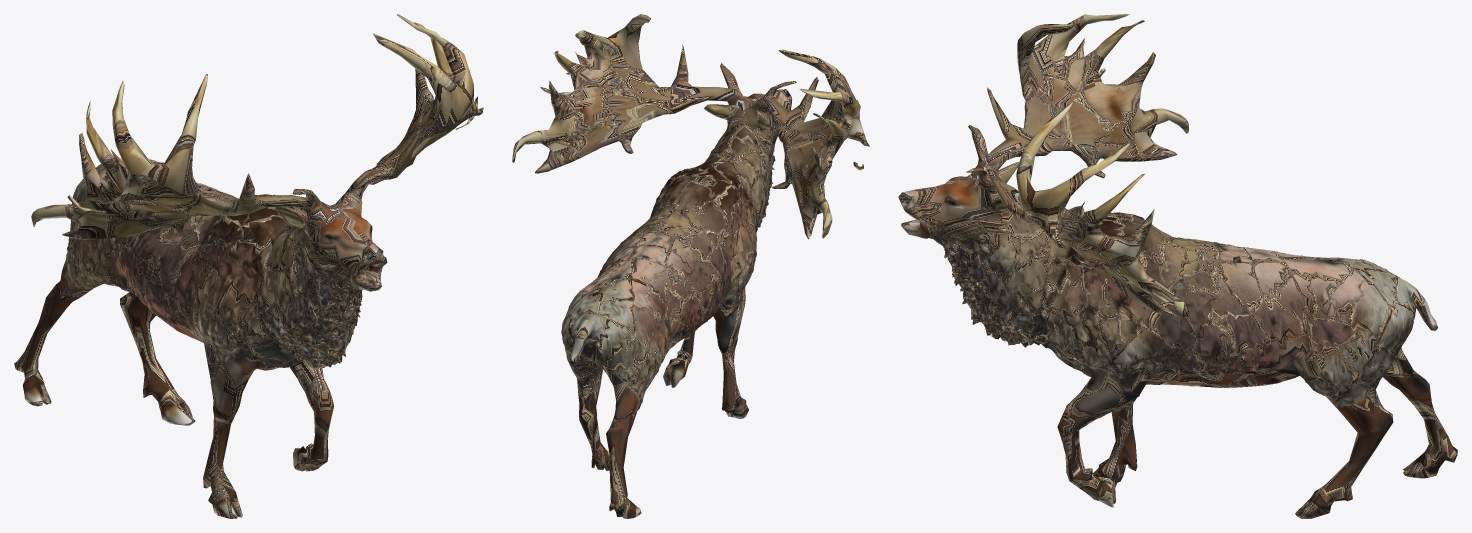
File: giant-elk.glb
3 renders of one model, left to right at view 1: azimuth 30°, elevation 25°; view 2: azimuth 150°, elevation 25°; view 3: azimuth 270°, elevation 25°, orthographic. The views are drawn at different scales.
Bounding box in the file's own units: 1.51 × 1.62 × 1.85.
Materials: 1 (1 with a texture image).
